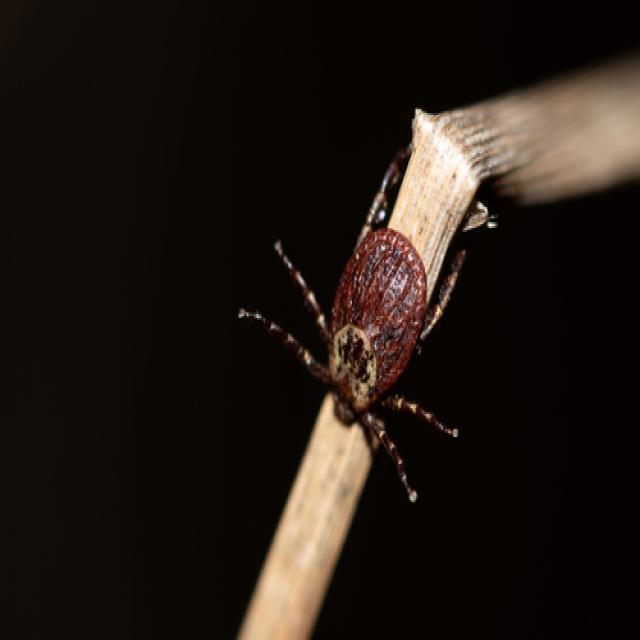Dermacentor Reticulatus-F: (239, 151, 472, 504)
